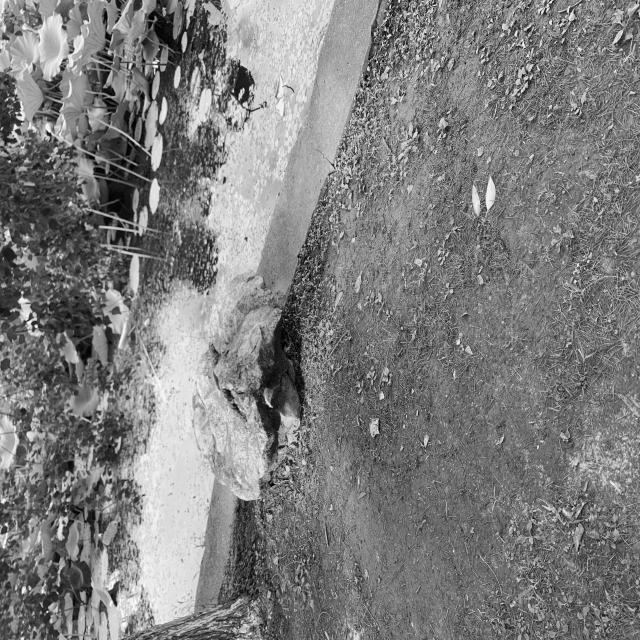Stone: (192, 274, 300, 499)
